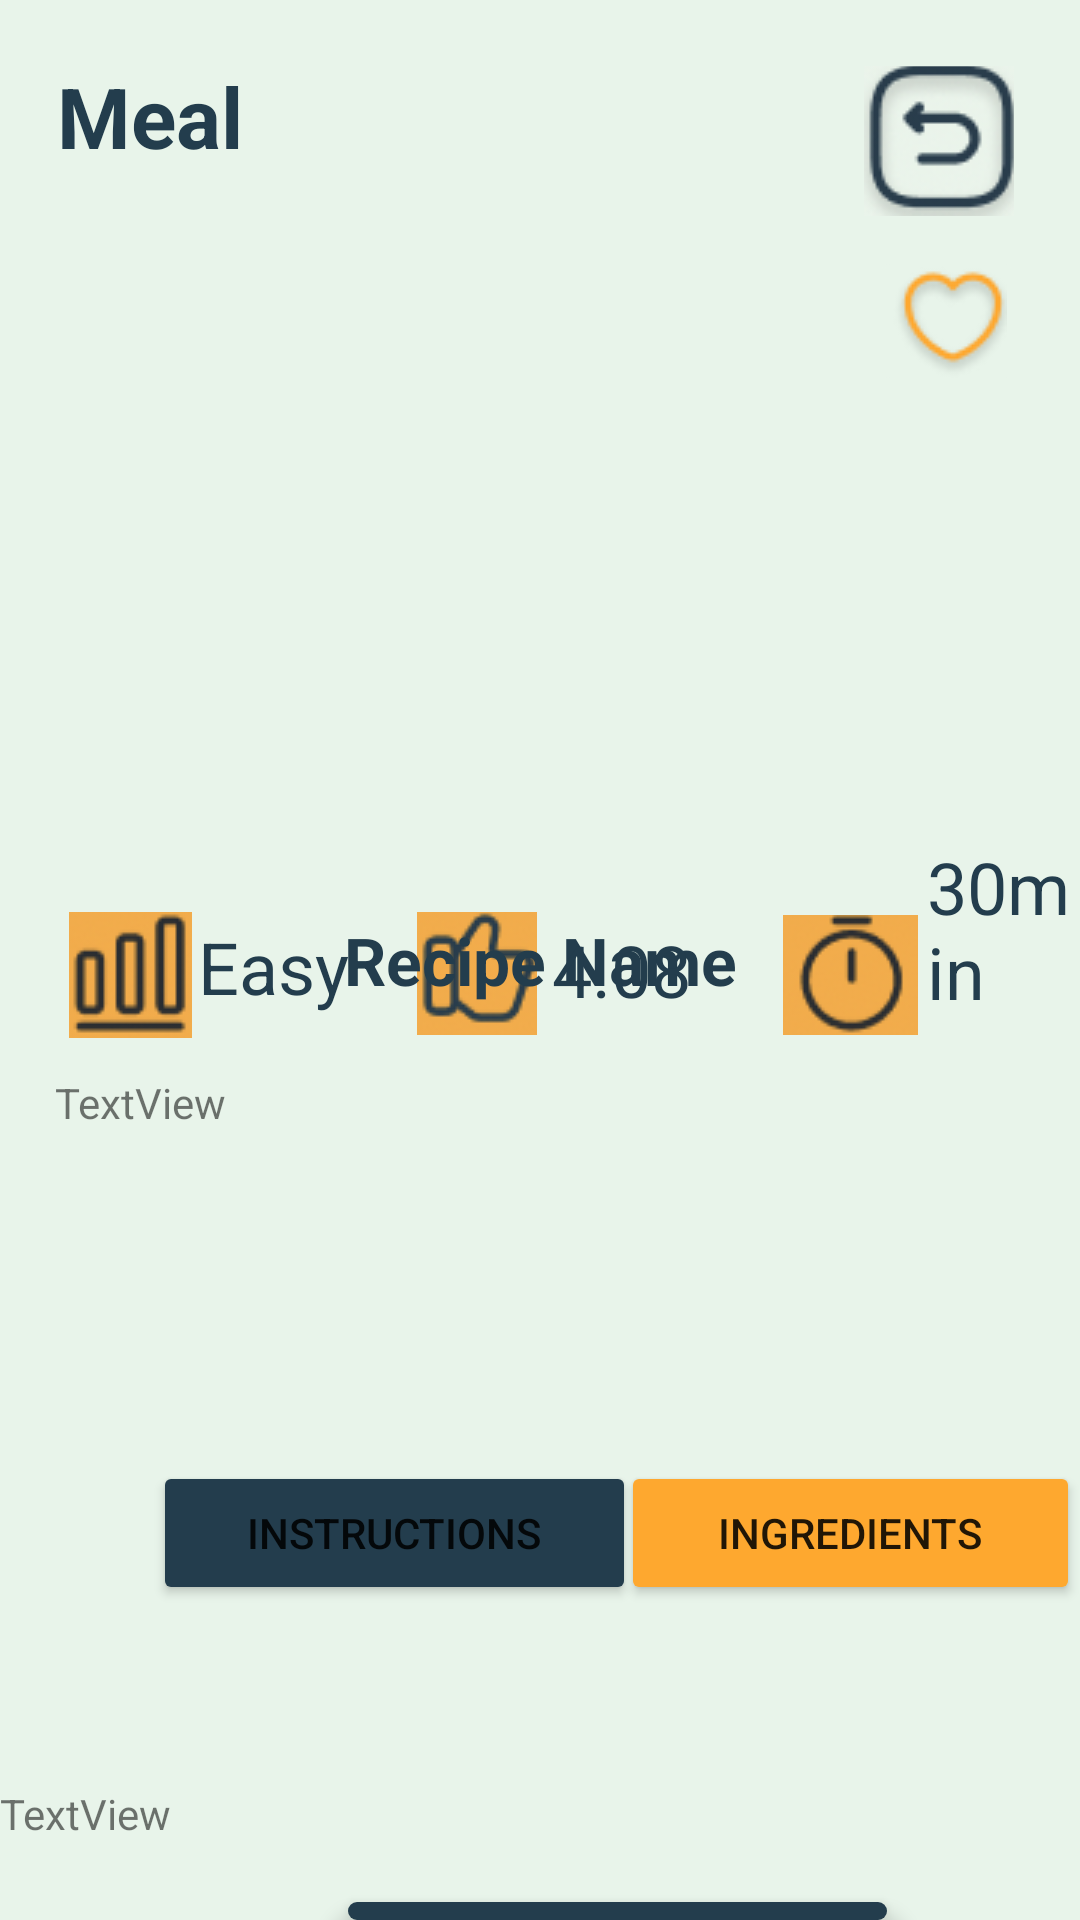

Where to tap for icons on this 1080*1920 app screen, as (x,y):
back: (941,141)
dif: (130,975)
time: (850,975)
